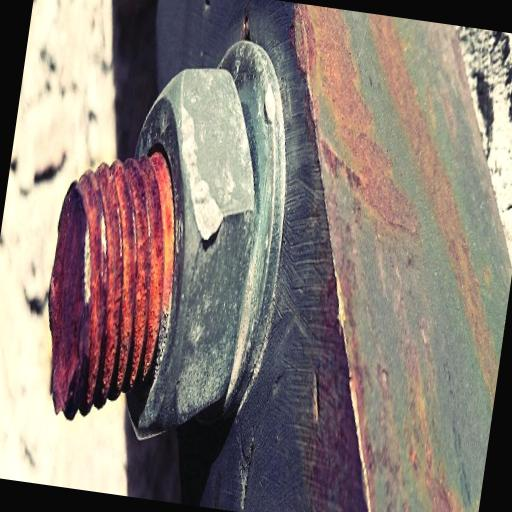corrosion: (41, 145, 182, 425), (315, 78, 380, 148), (319, 35, 348, 100)
